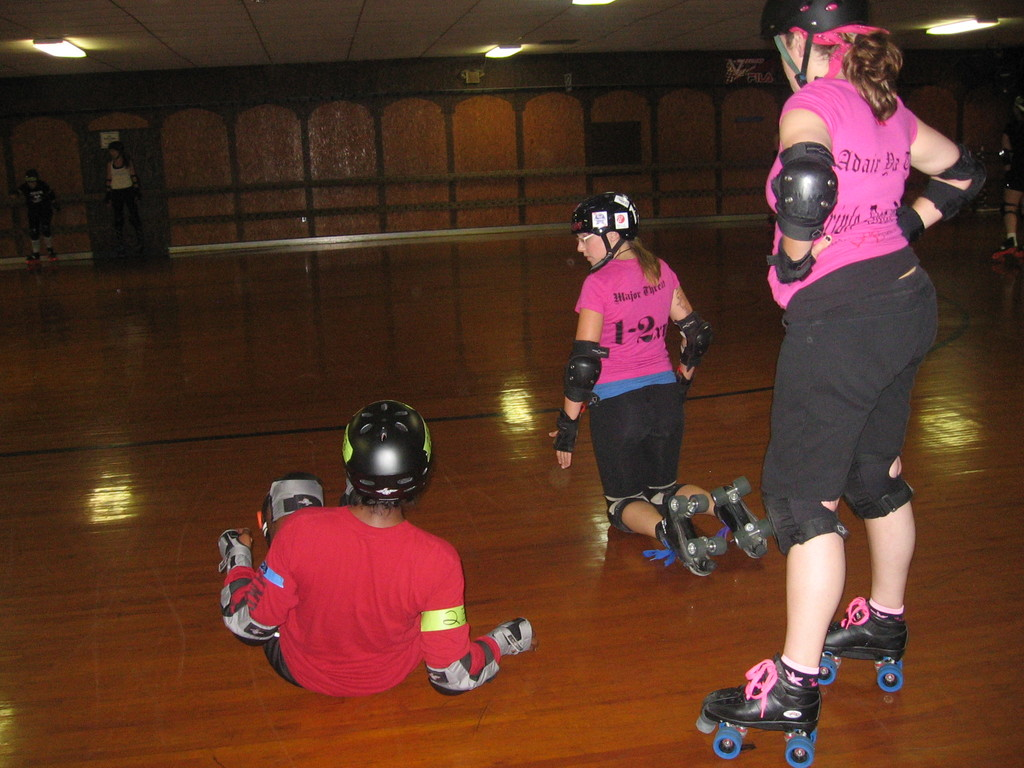Person: (704, 0, 989, 726), (218, 399, 539, 699), (552, 190, 768, 572)
